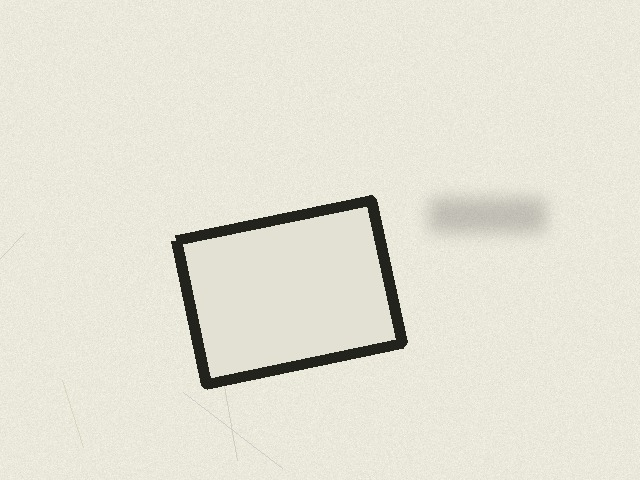parking_area: (176, 200, 402, 384)
